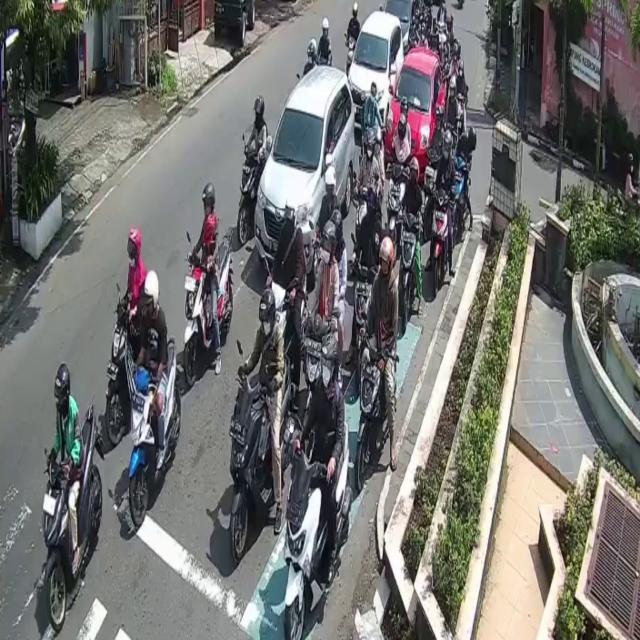bus: (284, 418, 349, 640), (42, 401, 104, 633), (230, 354, 293, 565), (129, 341, 181, 536), (181, 240, 231, 385), (356, 343, 398, 489), (397, 212, 418, 333), (430, 191, 450, 300), (451, 157, 467, 240)
motorcycle: (255, 63, 356, 273), (386, 46, 446, 180), (348, 11, 402, 127), (383, 0, 421, 52)
